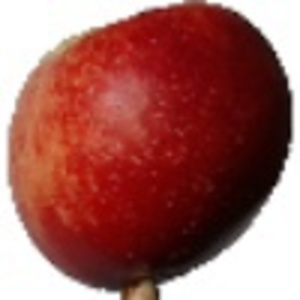nectarina: (5, 1, 294, 300)
